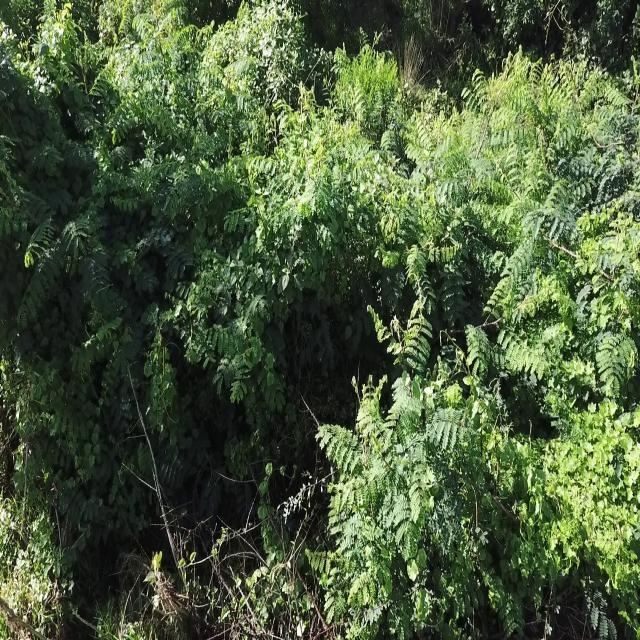Mysore-Thorn-Weed: (314, 364, 488, 620), (0, 0, 130, 312), (526, 58, 638, 348), (252, 97, 406, 286), (128, 0, 235, 233), (443, 48, 538, 274), (439, 266, 553, 379), (191, 313, 293, 407), (156, 442, 255, 510), (30, 436, 94, 538), (371, 260, 429, 364), (142, 238, 188, 324)
